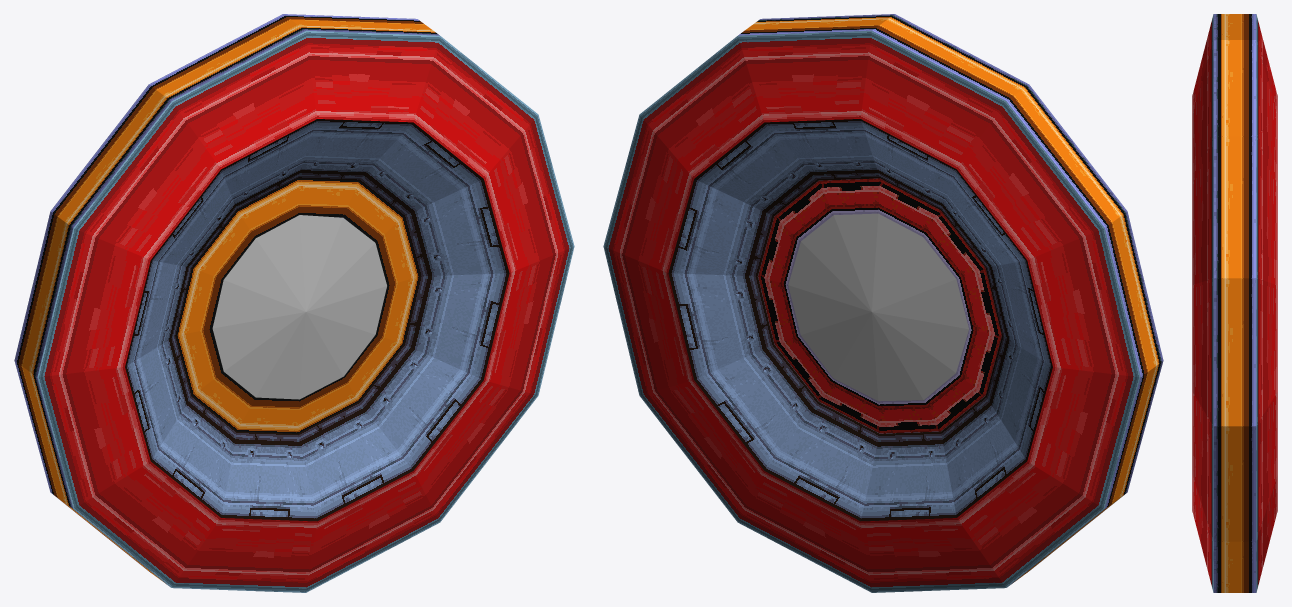
Rendered from target.obj.
3 renders of one model, left to right at view 1: azimuth 30°, elevation 25°; view 2: azimuth 150°, elevation 25°; view 3: azimuth 270°, elevation 25°, orthographic. The views are drawn at different scales.
Parts seen in each view (by area): view 1: Object_2, Object_1; view 2: Object_2, Object_1; view 3: Object_2.
Part boxes in pixels (bbox=[...]): Object_2: bbox=[14, 14, 574, 592]; Object_1: bbox=[212, 215, 386, 399]; Object_2: bbox=[603, 14, 1163, 592]; Object_1: bbox=[788, 213, 968, 401]; Object_2: bbox=[1192, 14, 1277, 592].
Bounding box in the file's own units: 40 × 40 × 5.88.
